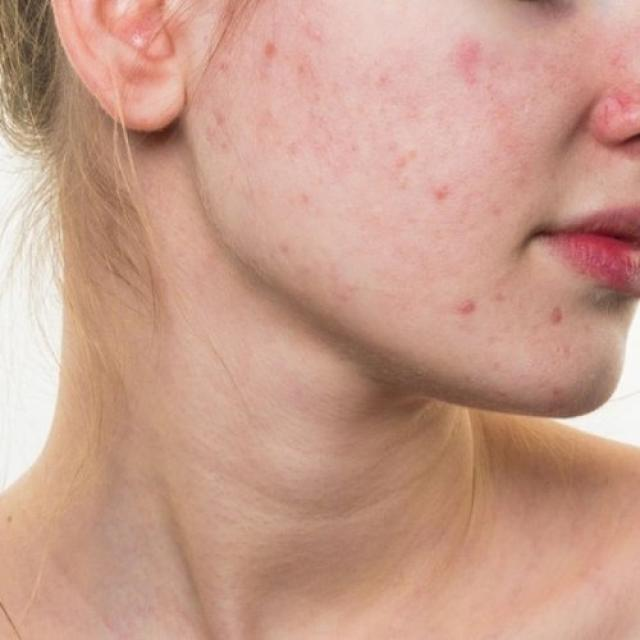Dry-Skin: (299, 84, 363, 231), (197, 0, 263, 125), (551, 84, 636, 167), (478, 223, 558, 311)
